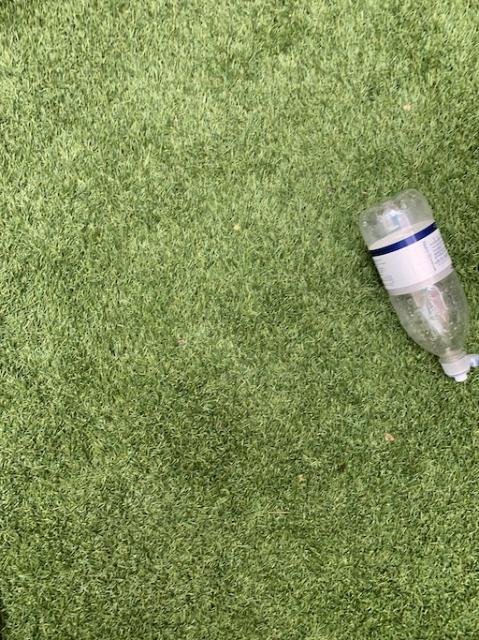plastic: (359, 188, 477, 380)
